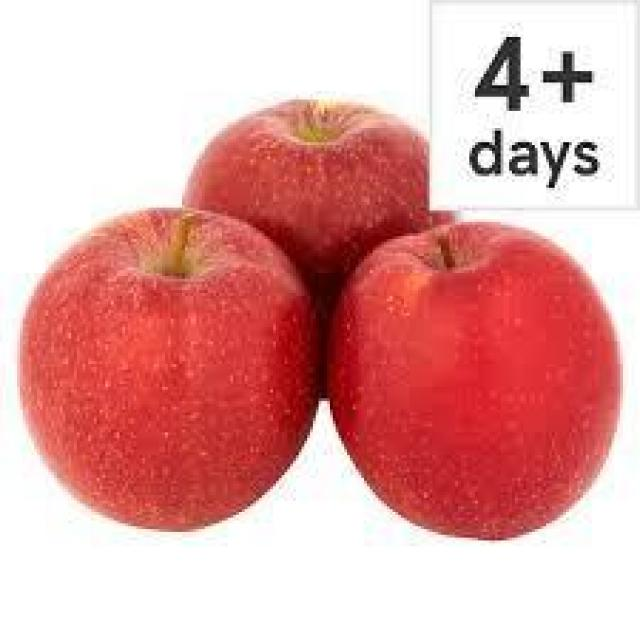maca: (15, 202, 322, 532), (324, 219, 620, 540), (187, 90, 471, 239)
